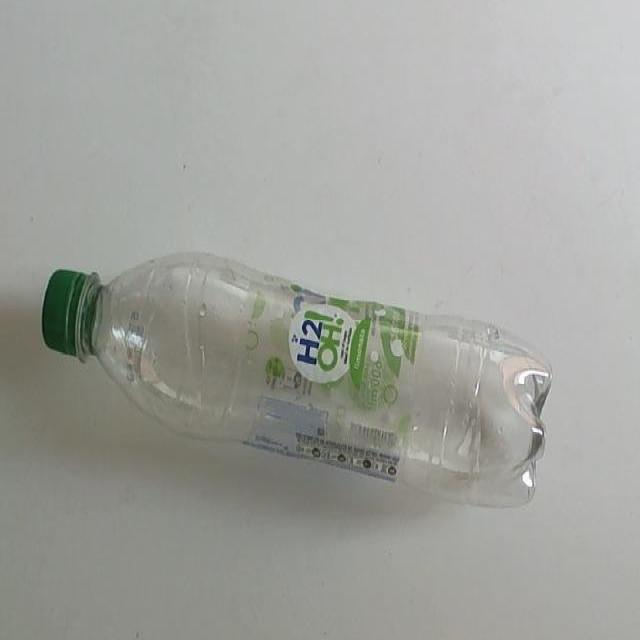non-defect: (40, 248, 553, 511)
